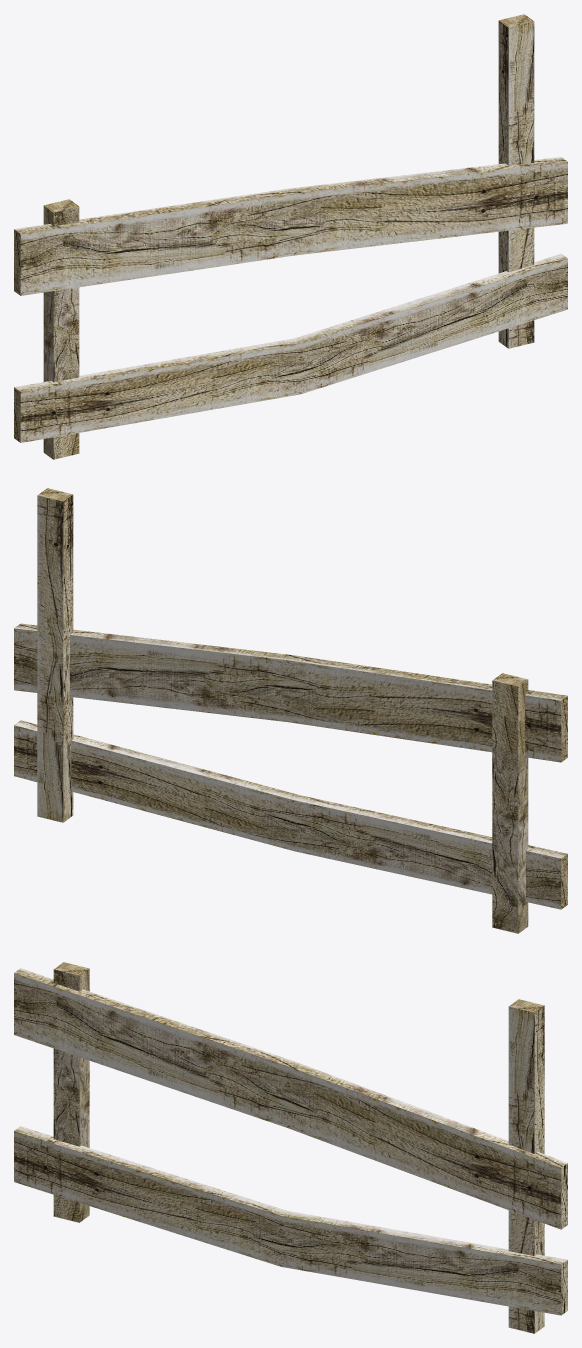
The model's file is fence_03.fbx.
3 views of the same model, one above another, from view 1: azimuth 30°, elevation 25°; view 2: azimuth 150°, elevation 25°; view 3: azimuth 330°, elevation 25° (orthographic).
Parts seen in each view (by area): view 1: fence_3; view 2: fence_3; view 3: fence_3.
Part boxes in pixels (x1,y1,x2,y2): fence_3: [14, 14, 567, 459]; fence_3: [14, 488, 567, 933]; fence_3: [14, 962, 567, 1333].
Bounding box in the file's own units: 2.88 × 1.61 × 0.1821.
